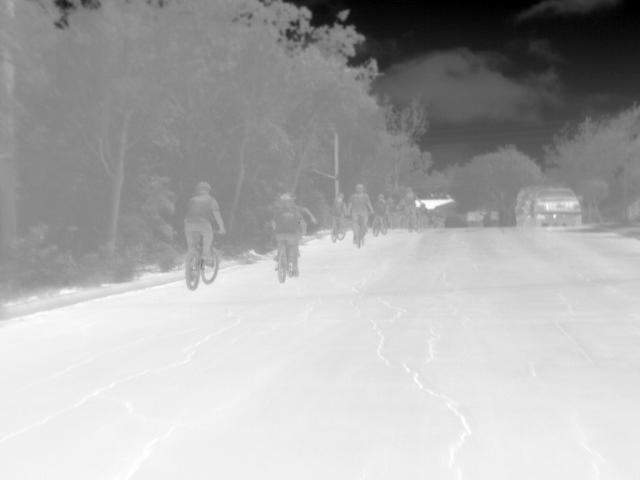car: (530, 186, 589, 228), (515, 186, 539, 228)
person: (183, 180, 229, 279), (273, 191, 304, 270), (344, 180, 374, 237), (402, 186, 421, 223), (373, 190, 390, 230), (330, 191, 346, 231)
